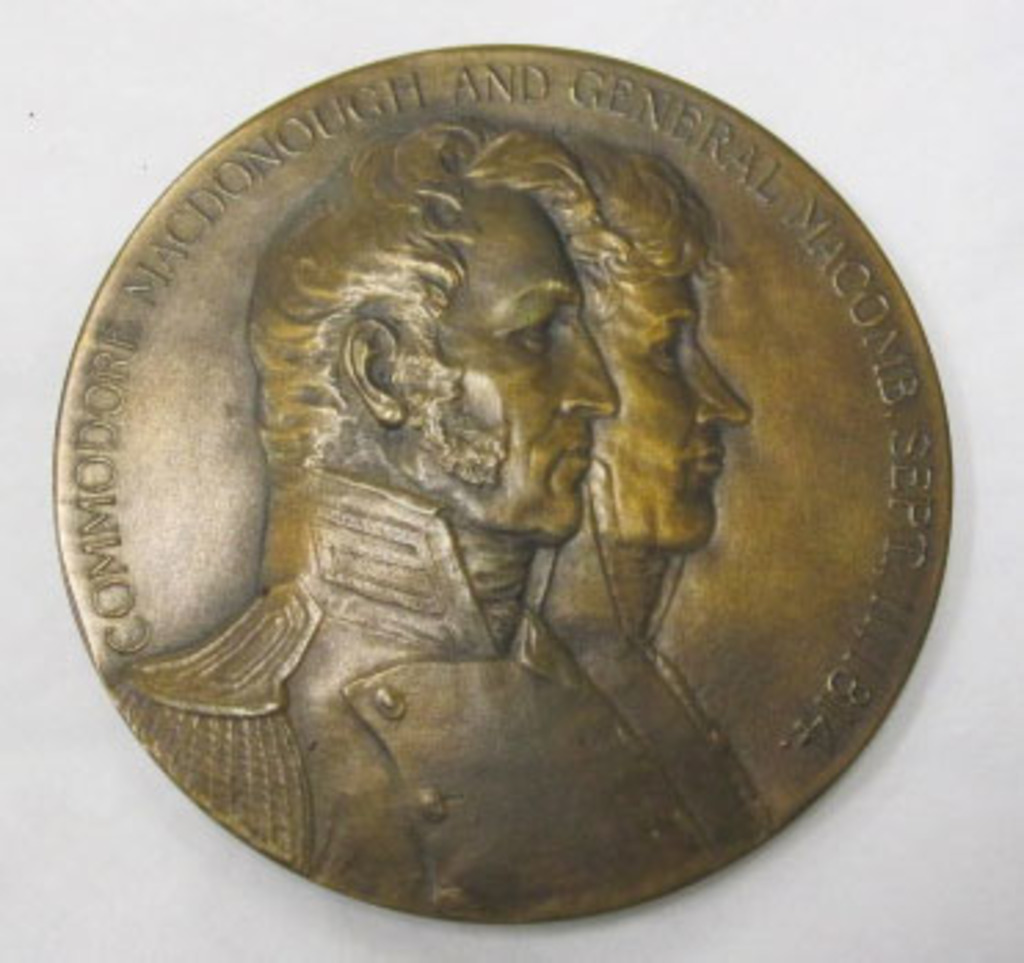Coin: (51, 42, 954, 925)
